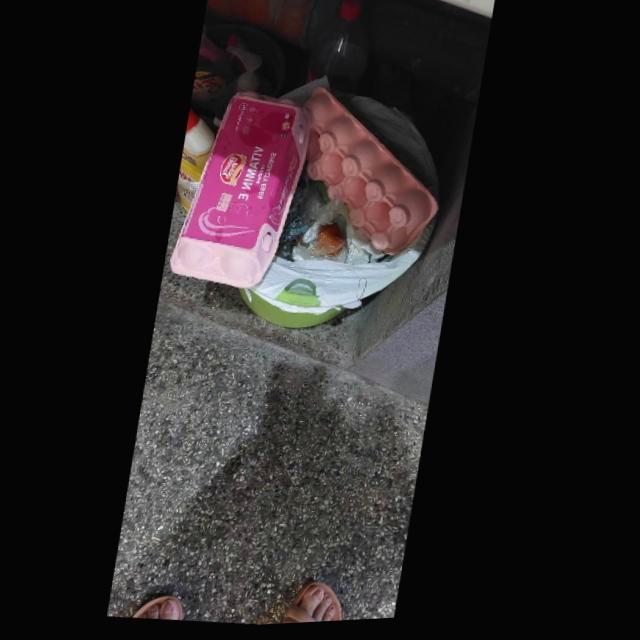plastic_container: (171, 92, 314, 293), (303, 89, 443, 259), (178, 113, 214, 209)
